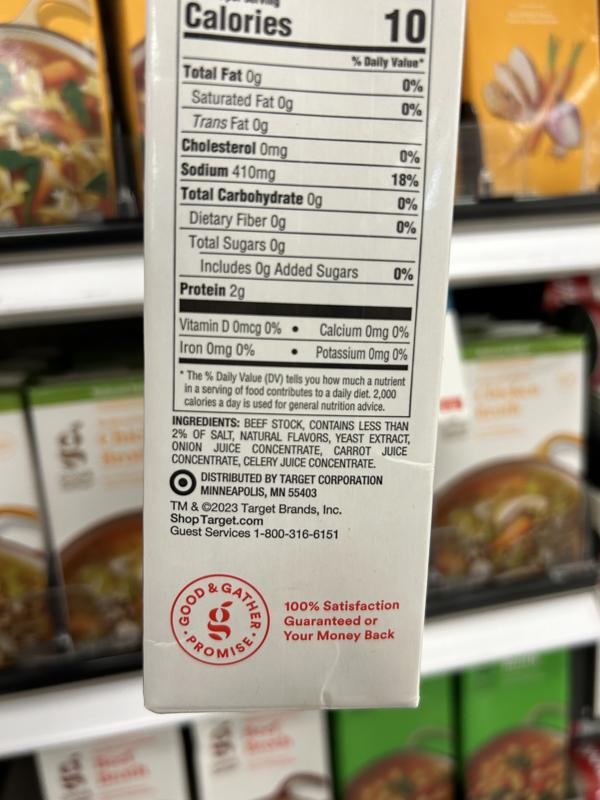ingredients: (168, 413, 413, 472)
